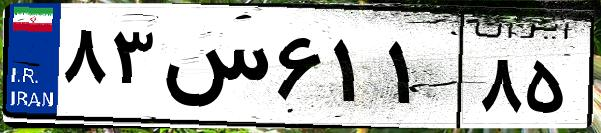1: (385, 28, 445, 110), (330, 28, 385, 110)
3: (110, 28, 158, 98)
5: (525, 38, 570, 115)
6: (270, 28, 330, 110)
8: (57, 26, 110, 100), (475, 38, 525, 113)
س: (158, 20, 270, 120)
